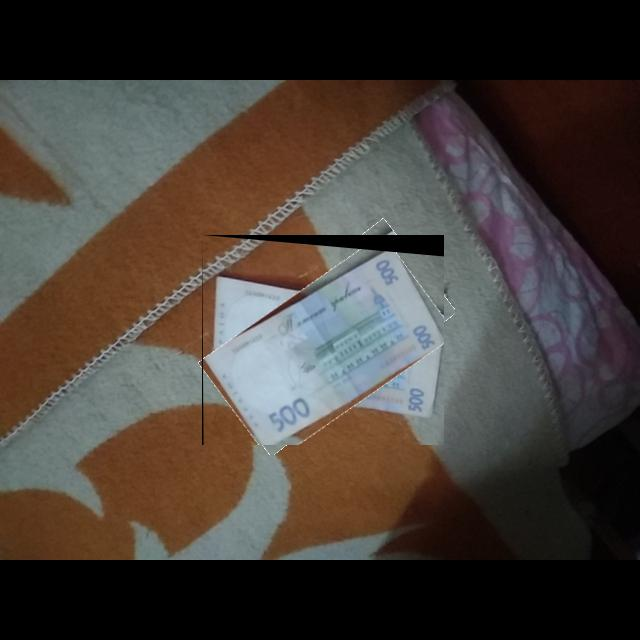500uah: (203, 249, 445, 446)
